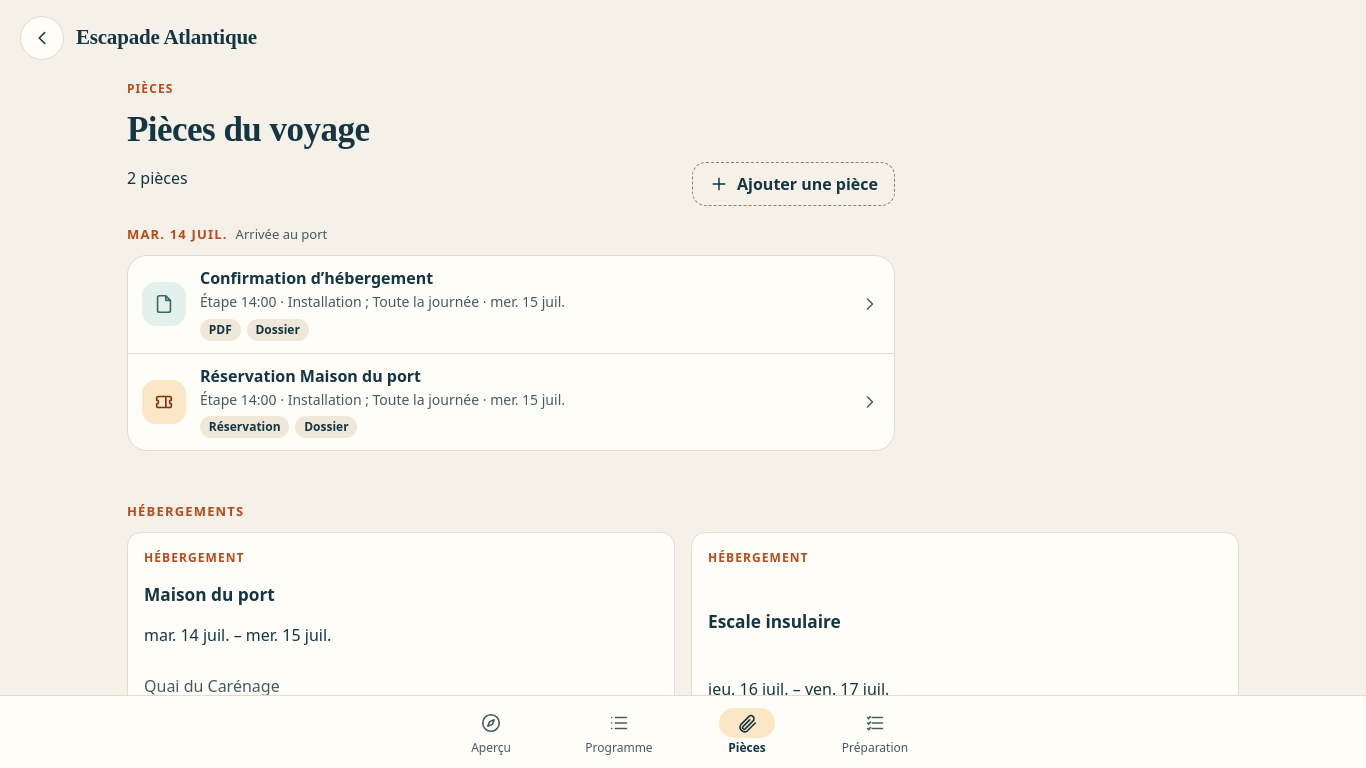
espace Pièces › ouvre la fiche d’une réservation depuis sa ligne
Click the button with aria-label "Voir la fiche Réservation Maison du port — " at [511, 402], box [128, 354, 894, 450]
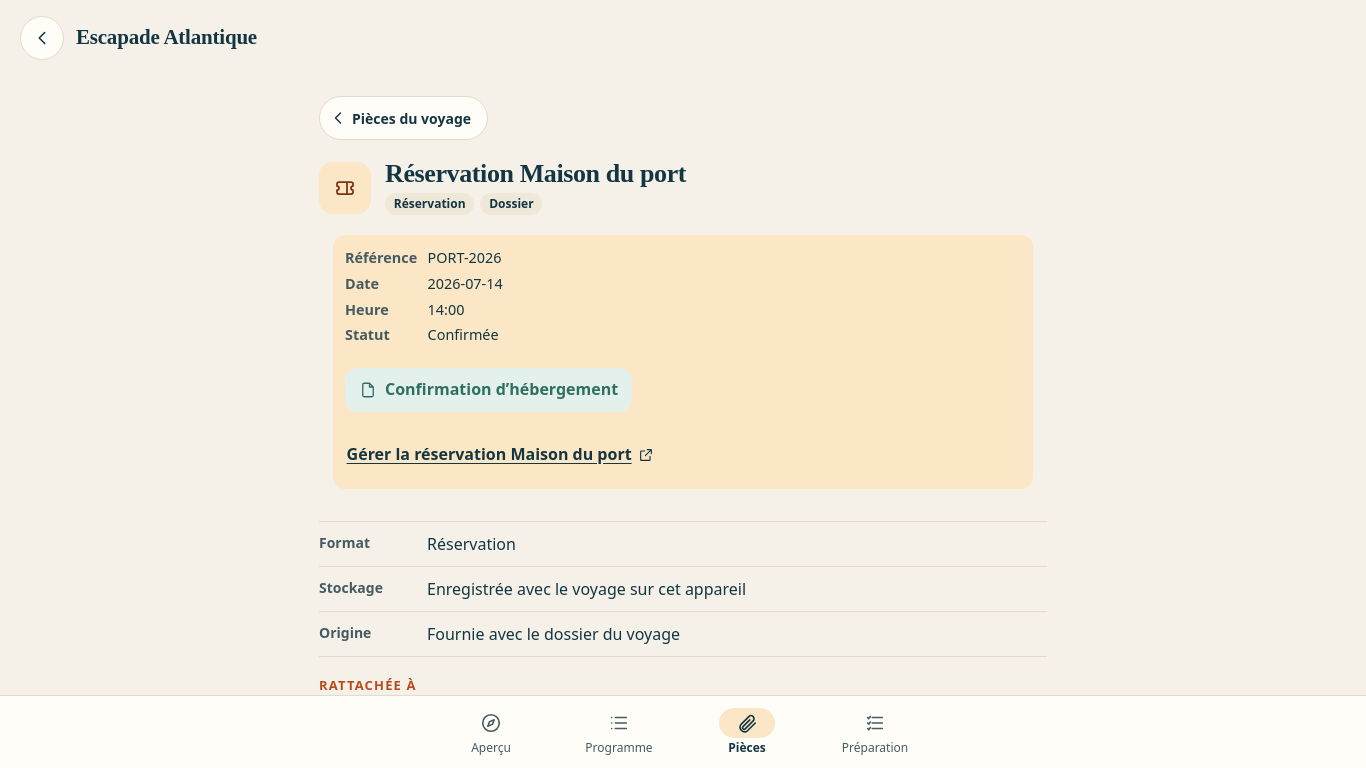
Expected: the heading "Réservation Maison du port" is shown, [385, 160, 686, 189]
Expected: the text "PORT-2026" is shown, [428, 248, 502, 267]
